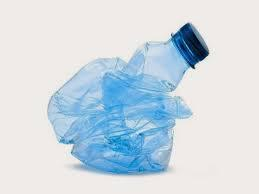Plastic: (23, 9, 219, 186)
